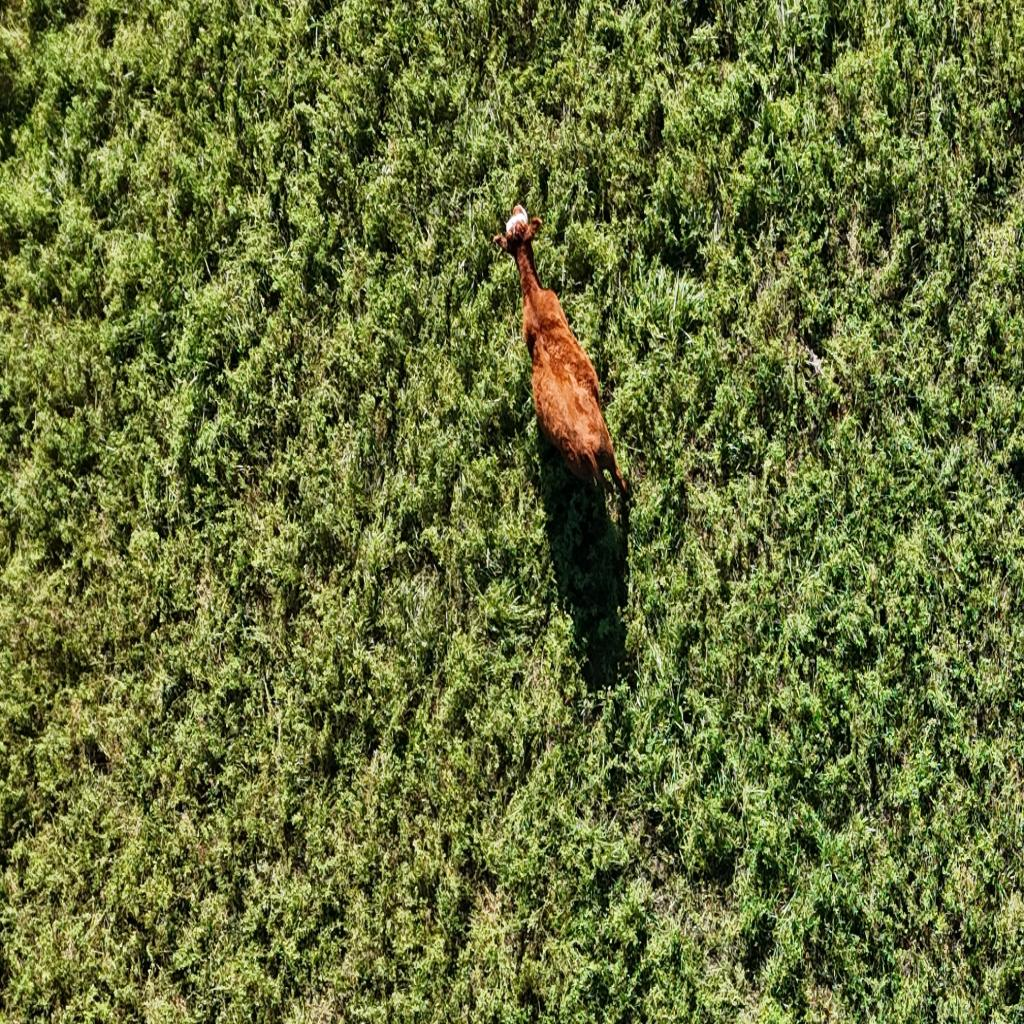cow: (475, 194, 660, 619)
